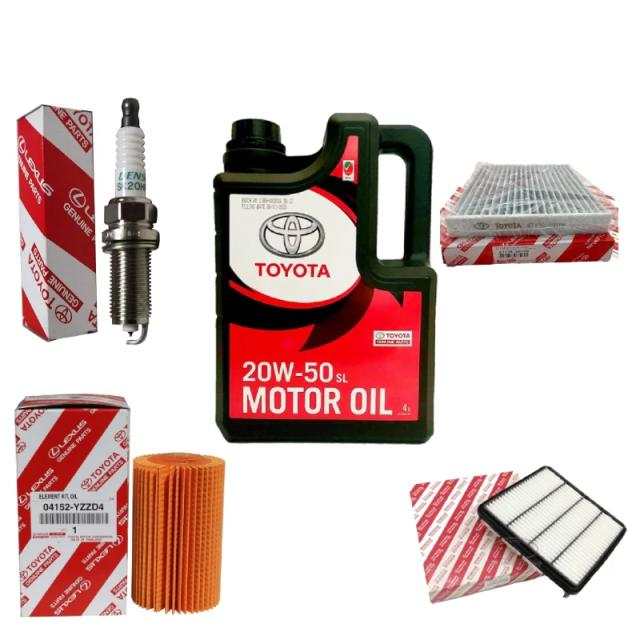air_filter: (482, 455, 633, 601), (446, 146, 596, 241)
motor_oil: (215, 112, 436, 446)
oil_filter: (126, 452, 230, 618)
